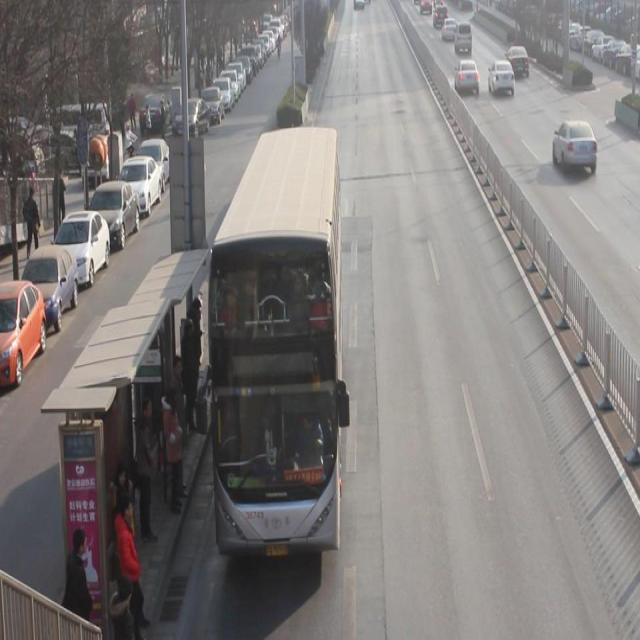car: (551, 120, 598, 177), (487, 60, 515, 98), (454, 60, 480, 98), (504, 44, 530, 79), (441, 16, 458, 41)
truck: (453, 22, 473, 54)
van: (205, 131, 338, 552)
